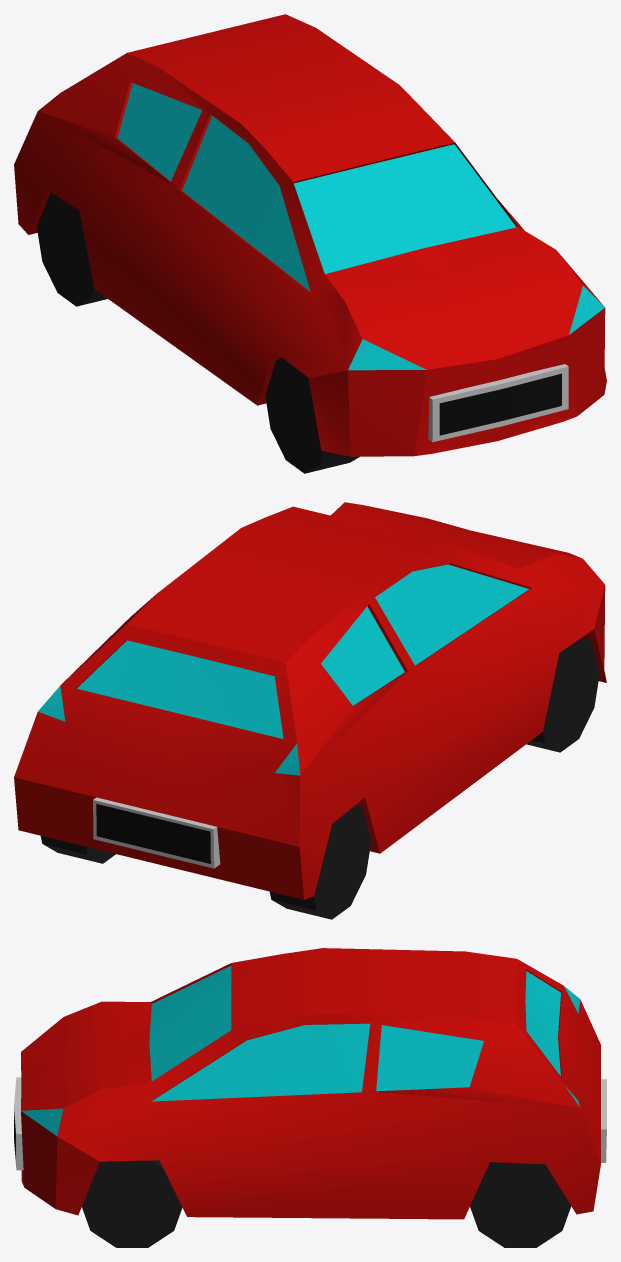
The model's file is Car.obj.
The picture shows the model from 3 angles, top to bottom: view 1: azimuth 30°, elevation 25°; view 2: azimuth 150°, elevation 25°; view 3: azimuth 270°, elevation 25°; orthographic projection. The views are drawn at different scales.
Parts seen in each view (by area): view 1: Car, Wheel.001, Wheel; view 2: Car, Wheel, Wheel.001; view 3: Car, Wheel.001, Wheel.
Boxes of the visible parts, left/top/right/bottom form: Car: left=14, top=14, right=606, bottom=456; Wheel.001: left=265, top=357, right=359, bottom=473; Wheel: left=37, top=192, right=107, bottom=306; Car: left=14, top=502, right=606, bottom=899; Wheel: left=40, top=804, right=371, bottom=919; Wheel.001: left=526, top=636, right=599, bottom=752; Car: left=14, top=948, right=606, bottom=1219; Wheel.001: left=82, top=1160, right=182, bottom=1247; Wheel: left=470, top=1162, right=571, bottom=1247.
Bounding box in the file's own units: 21.84 × 18.04 × 46.18.
